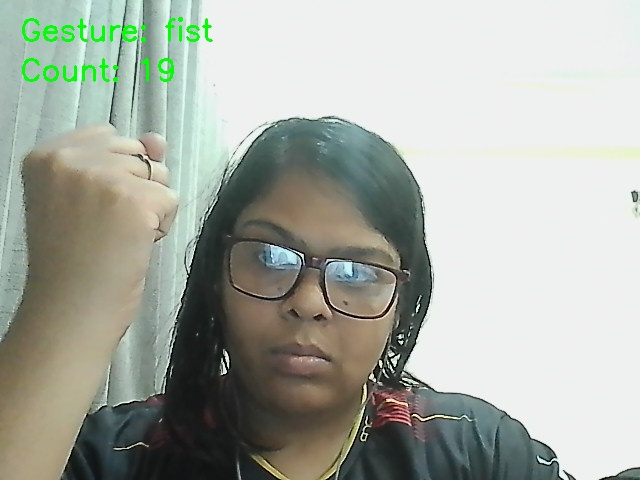fist: (15, 104, 188, 346)
